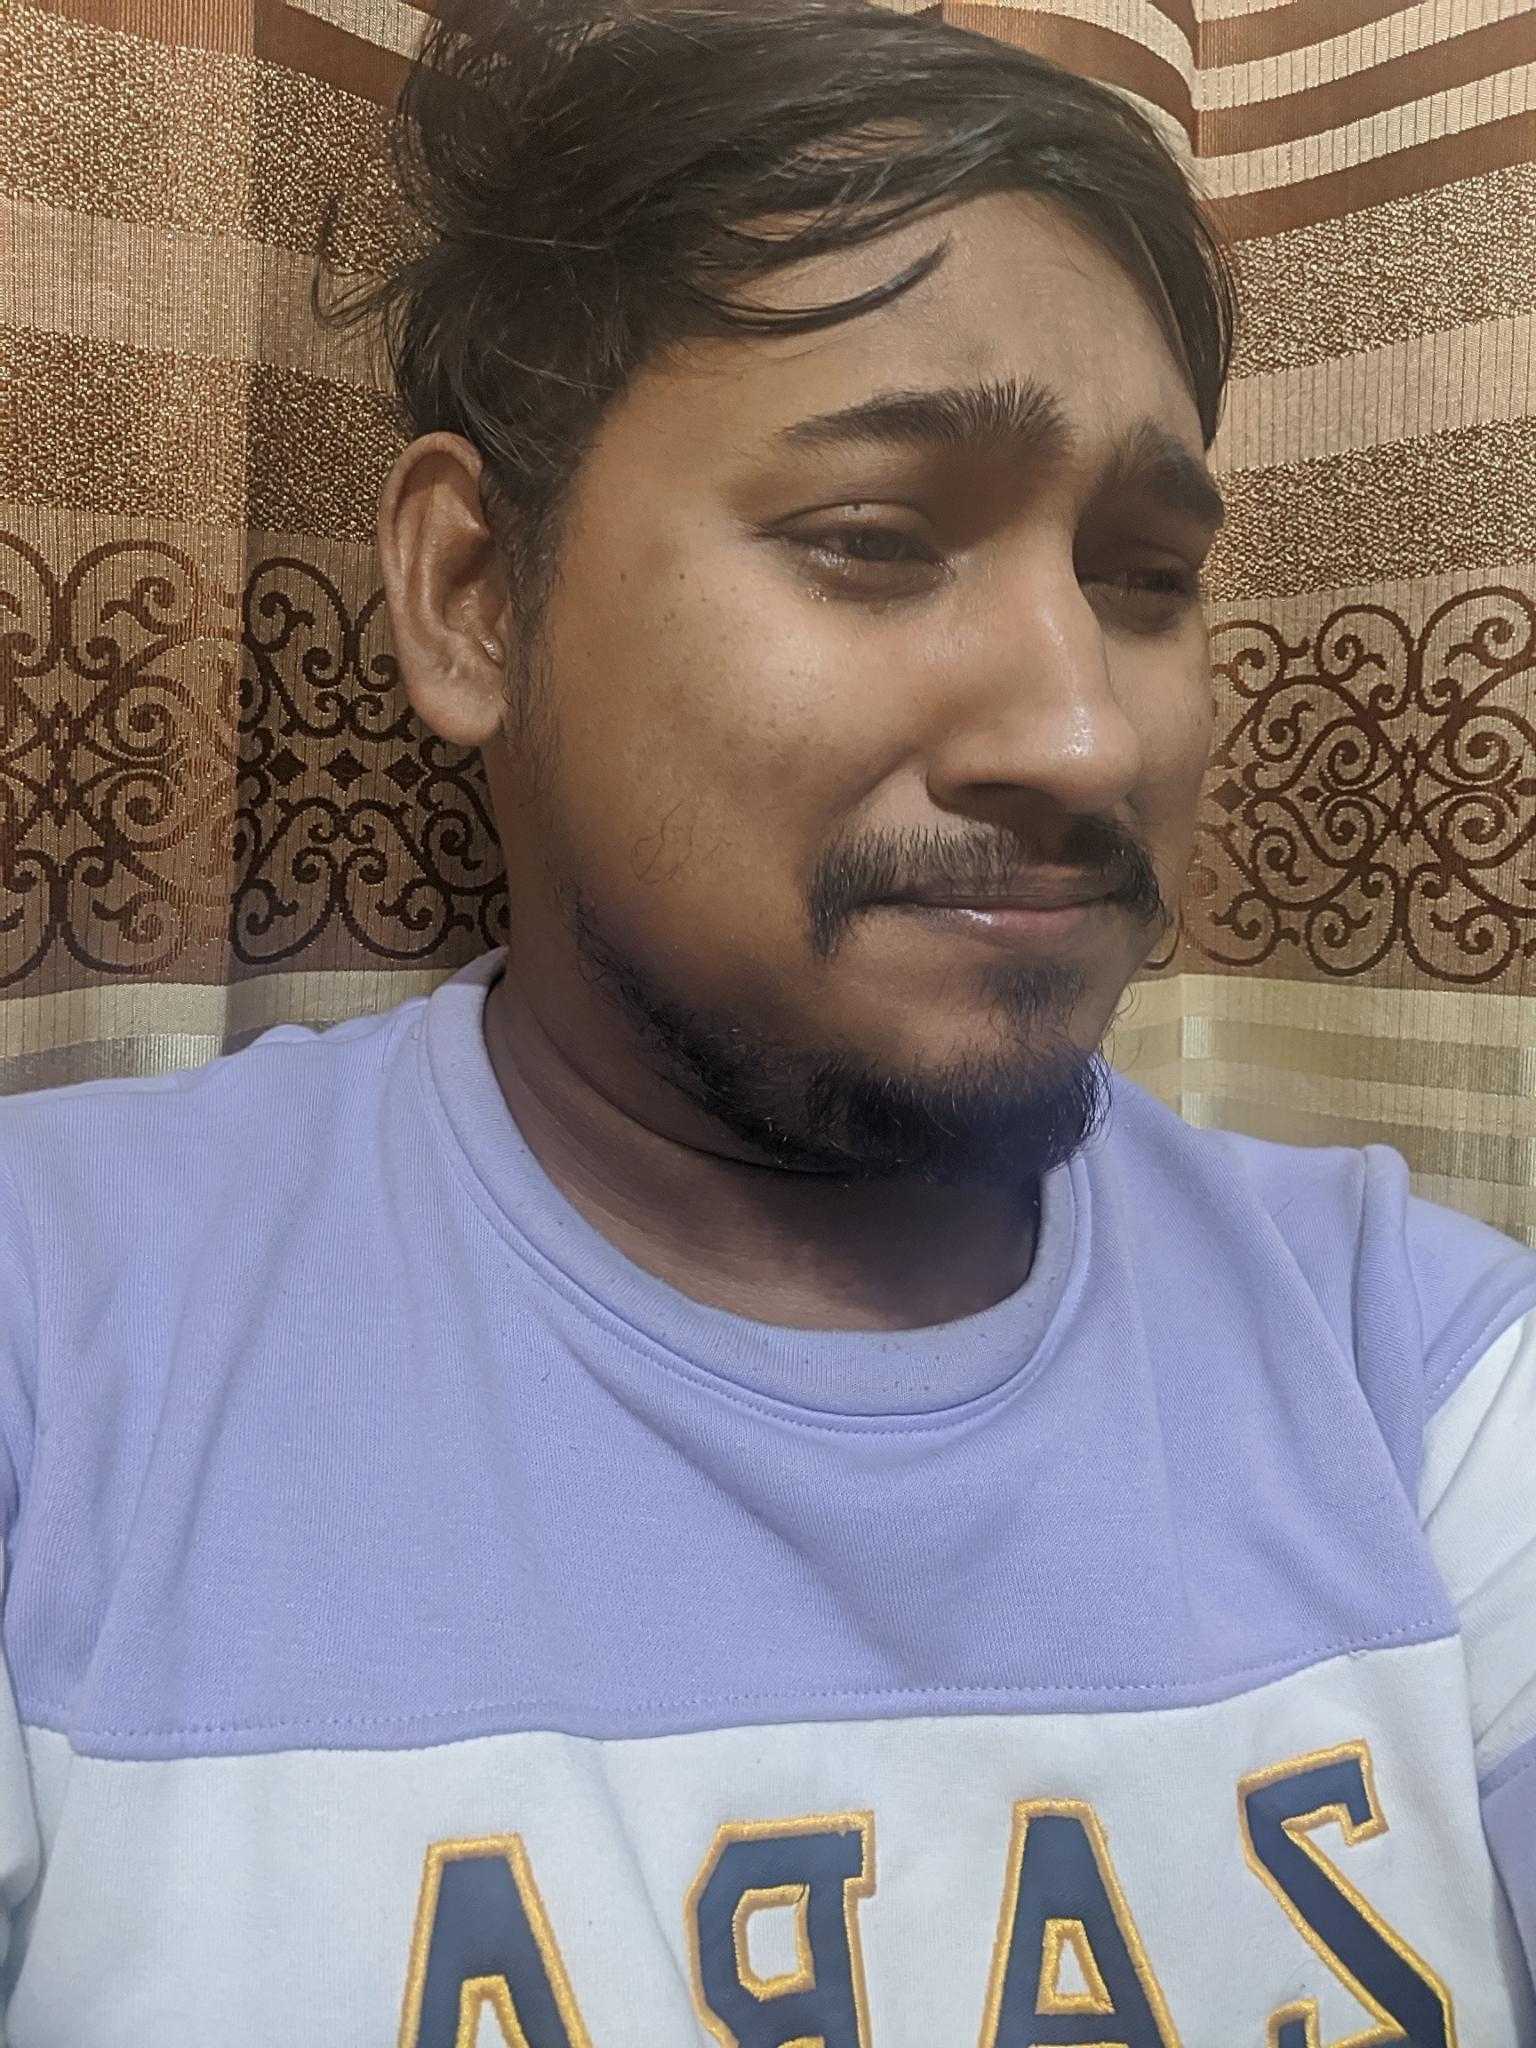Sad: (686, 305, 1250, 1180)
